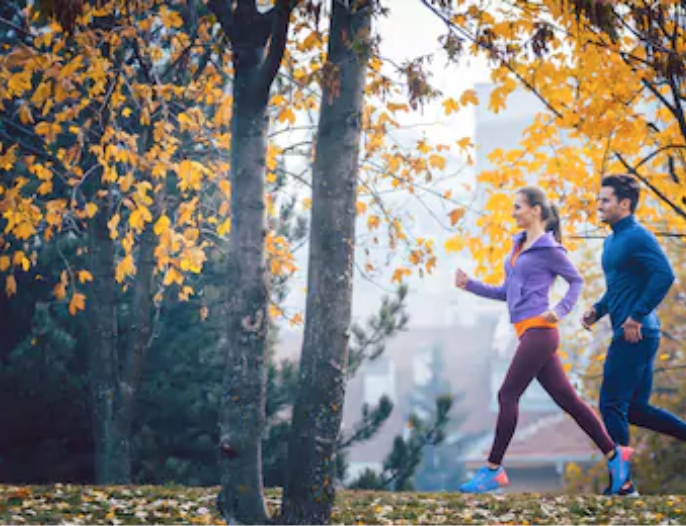Bad: (455, 174, 686, 495)
